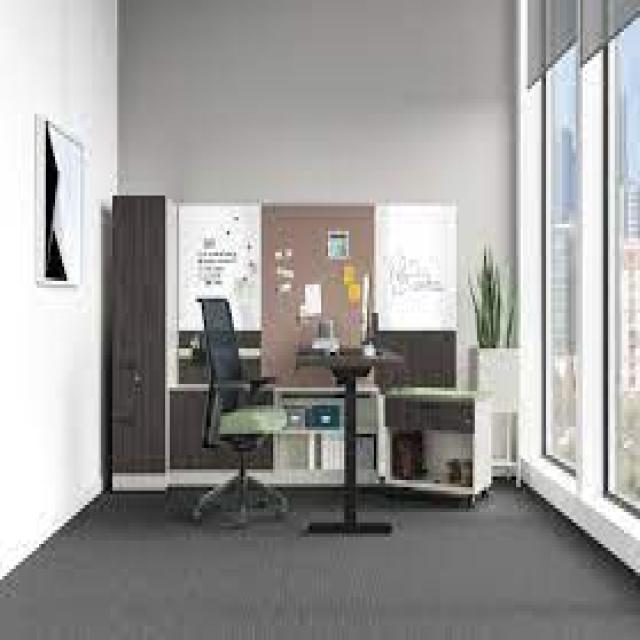chair: (176, 284, 309, 580)
